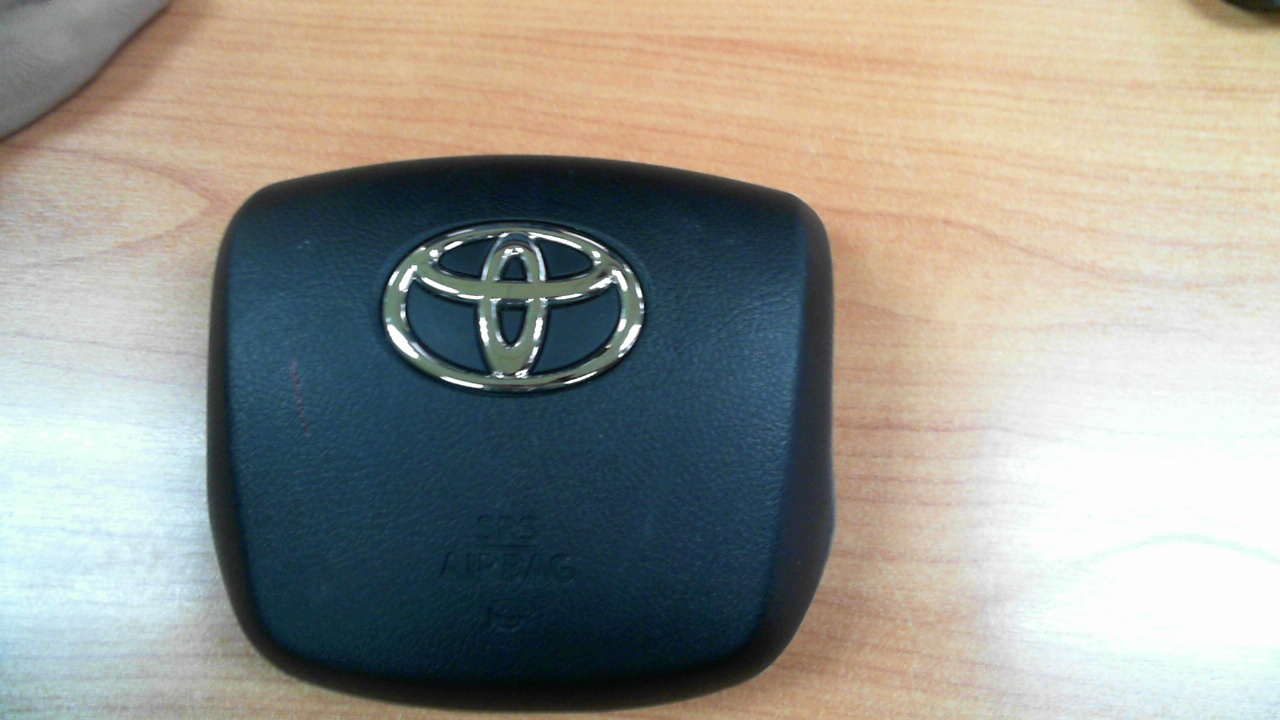Airbag: (205, 154, 836, 716)
Toyota: (382, 222, 645, 392)
